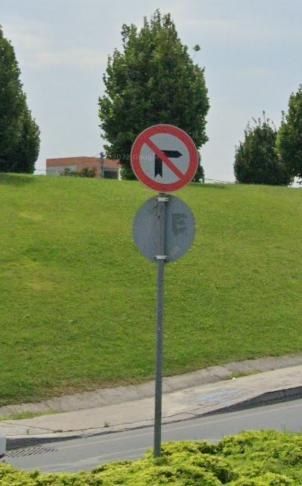rightturnsareforbidden: (131, 125, 200, 193)
